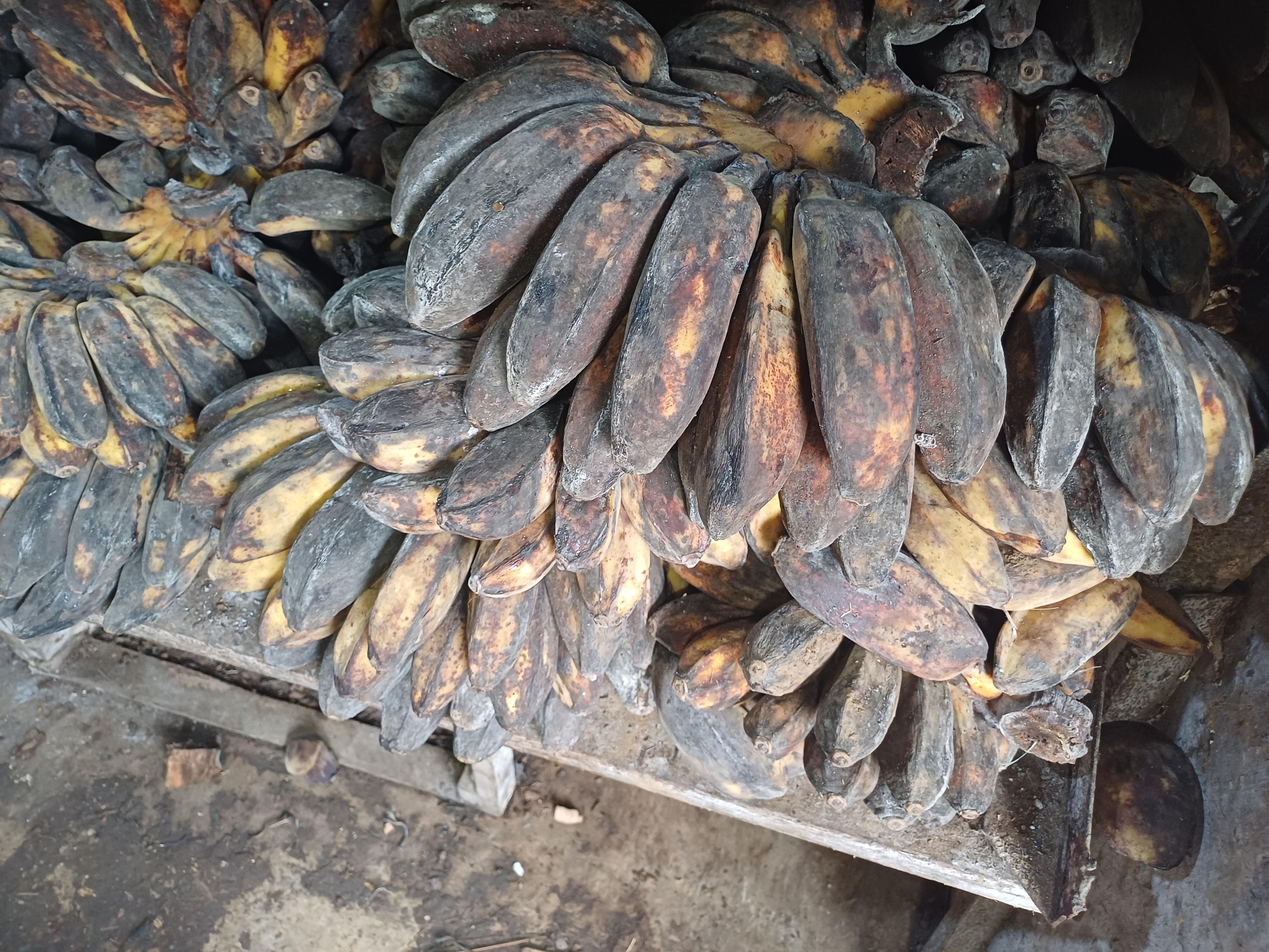overripe: (390, 0, 1006, 590), (316, 277, 713, 629), (654, 551, 1016, 830), (974, 239, 1255, 578), (907, 0, 1141, 252), (13, 0, 342, 175), (0, 260, 266, 475), (0, 441, 212, 639), (661, 0, 969, 116)
ripe: (177, 365, 666, 766)
